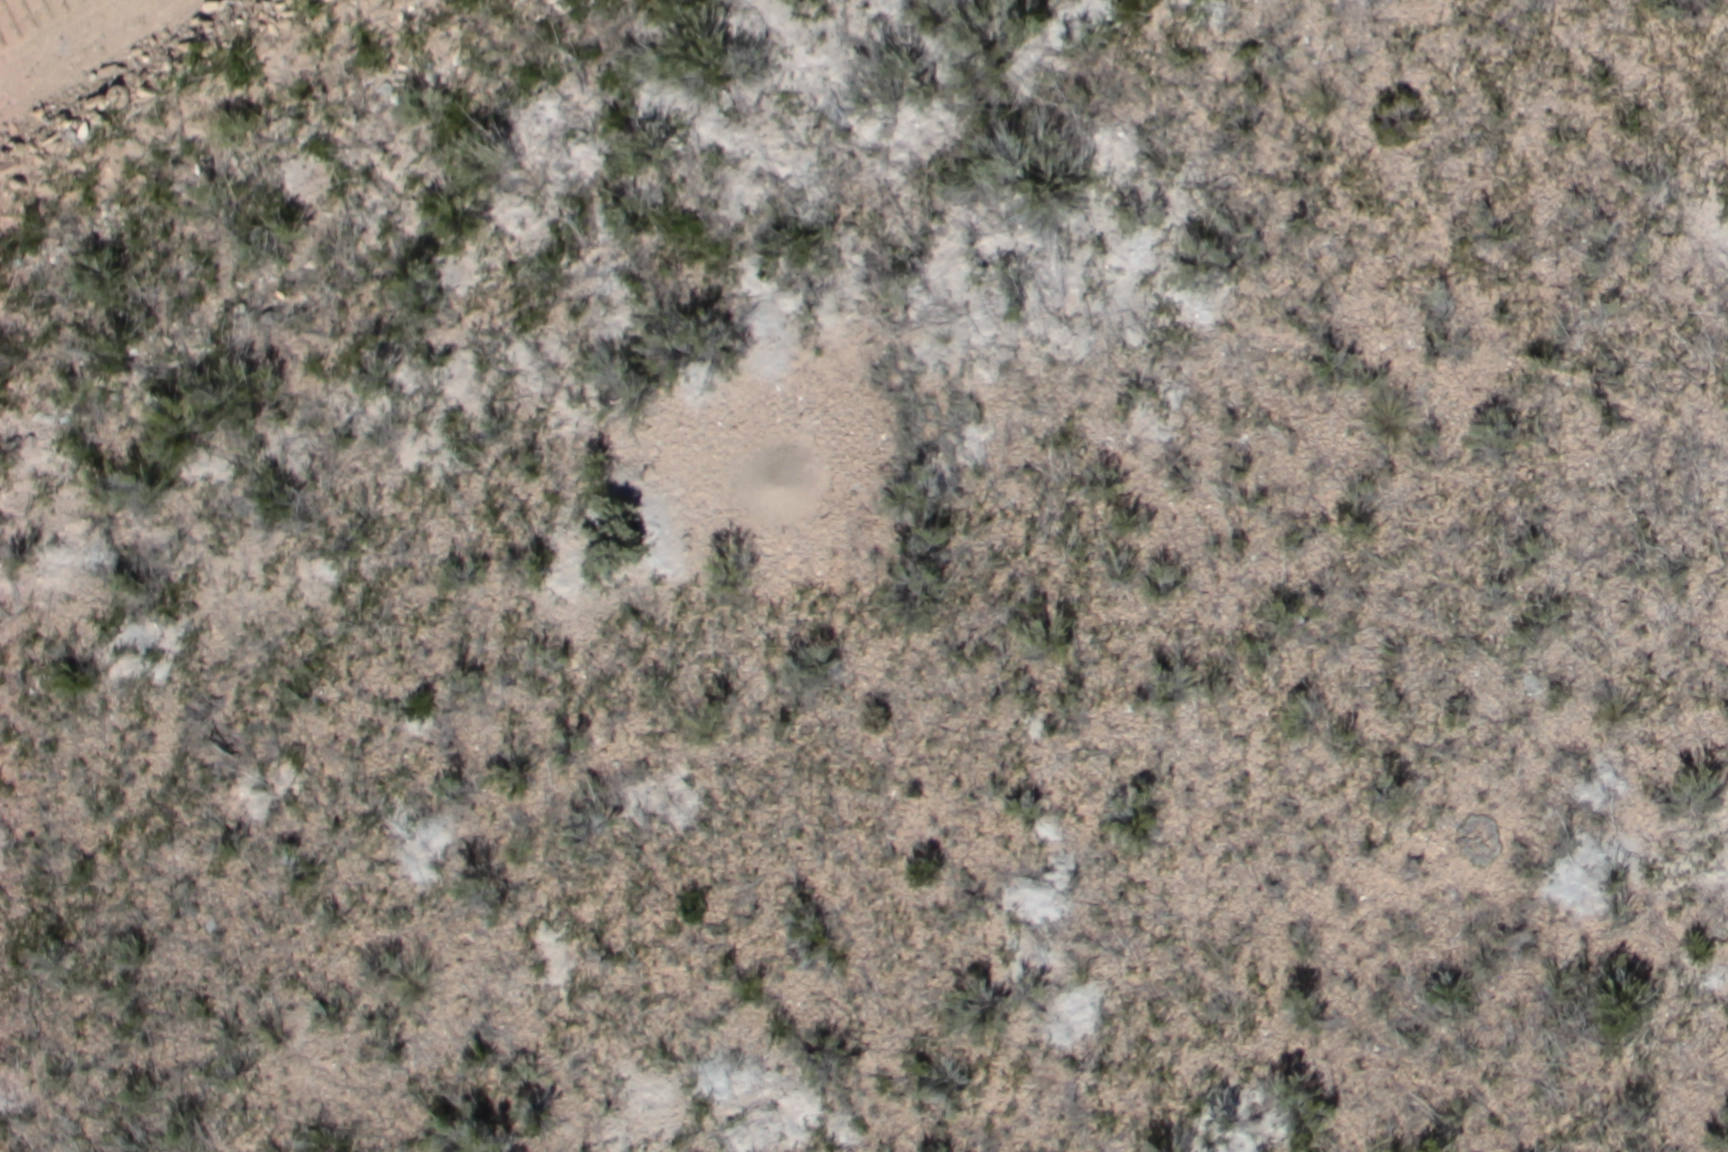burrow: (723, 431, 842, 531)
